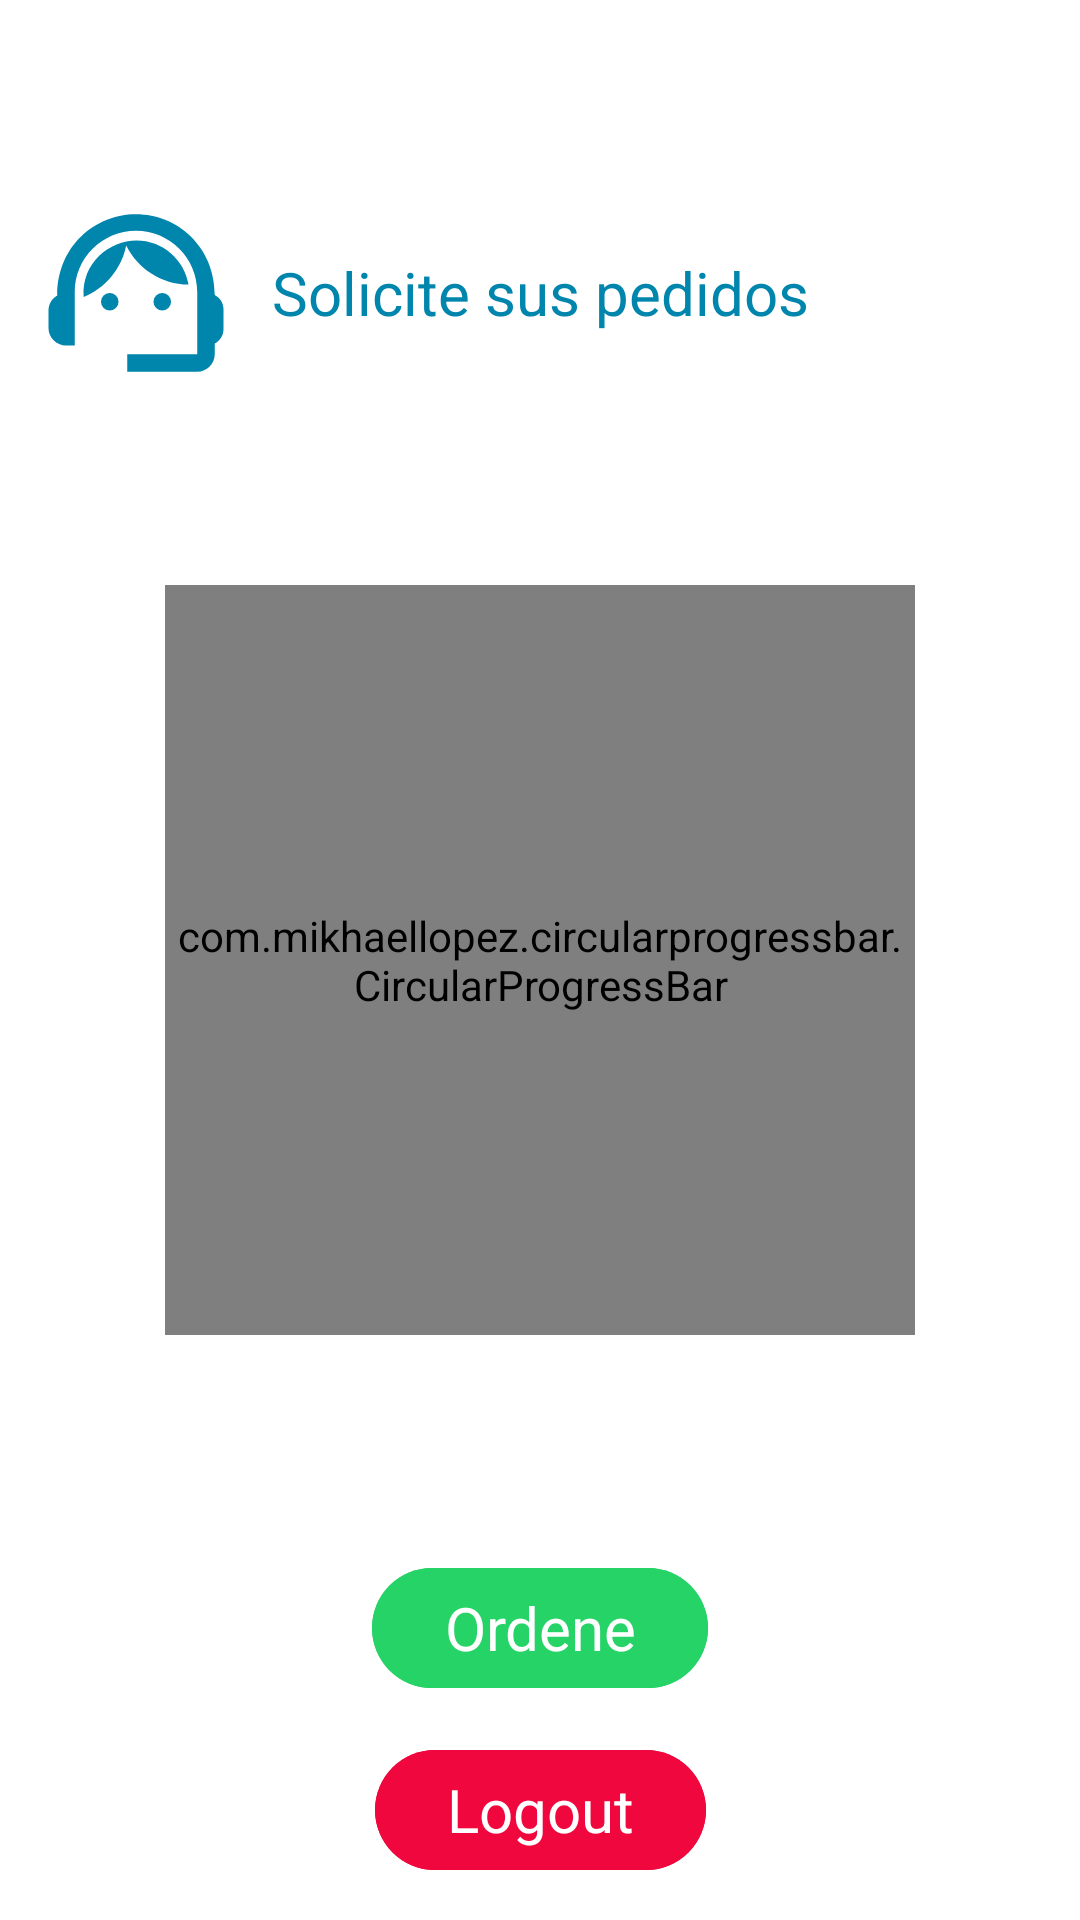

Where to tap for icons on this 1080*1920 app screen, as (x=x, y=y):
agent: (x=136, y=293)
